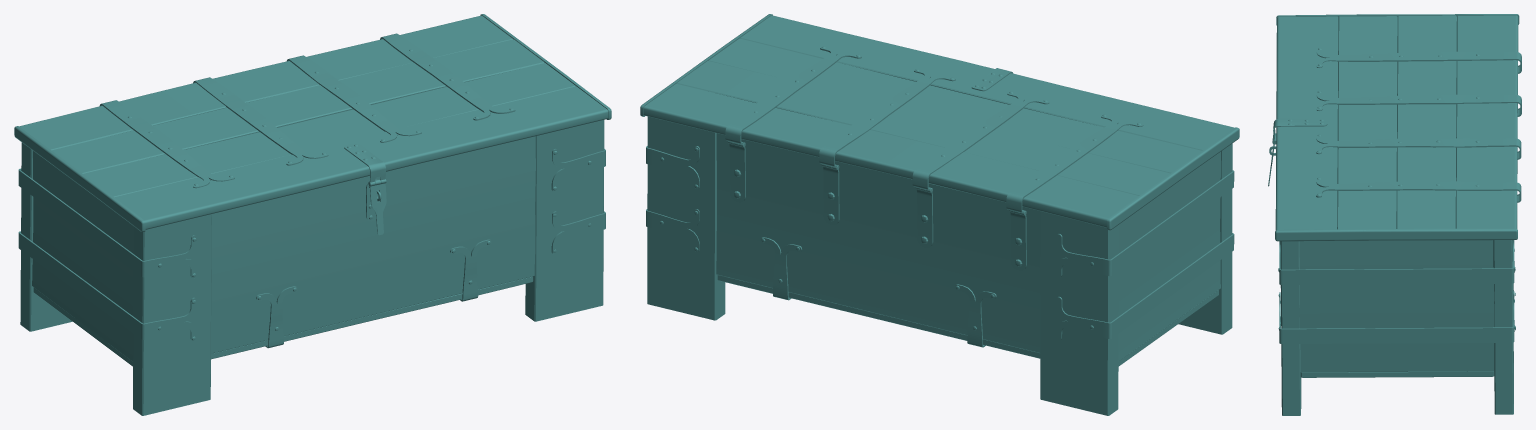
File: SM_Chest_01.fbx
The picture shows the model from 3 angles, left to right: view 1: azimuth 30°, elevation 25°; view 2: azimuth 150°, elevation 25°; view 3: azimuth 270°, elevation 25°; orthographic projection. The views are drawn at different scales.
Parts seen in each view (by area): view 1: SM_Chest_01; view 2: SM_Chest_01; view 3: SM_Chest_01.
Boxes of the visible parts, x1=… form: SM_Chest_01: x1=14, y1=14, x2=611, y2=415; SM_Chest_01: x1=640, y1=14, x2=1239, y2=415; SM_Chest_01: x1=1268, y1=14, x2=1521, y2=415.
Bounding box in the file's own units: 143 × 70.74 × 59.02.
